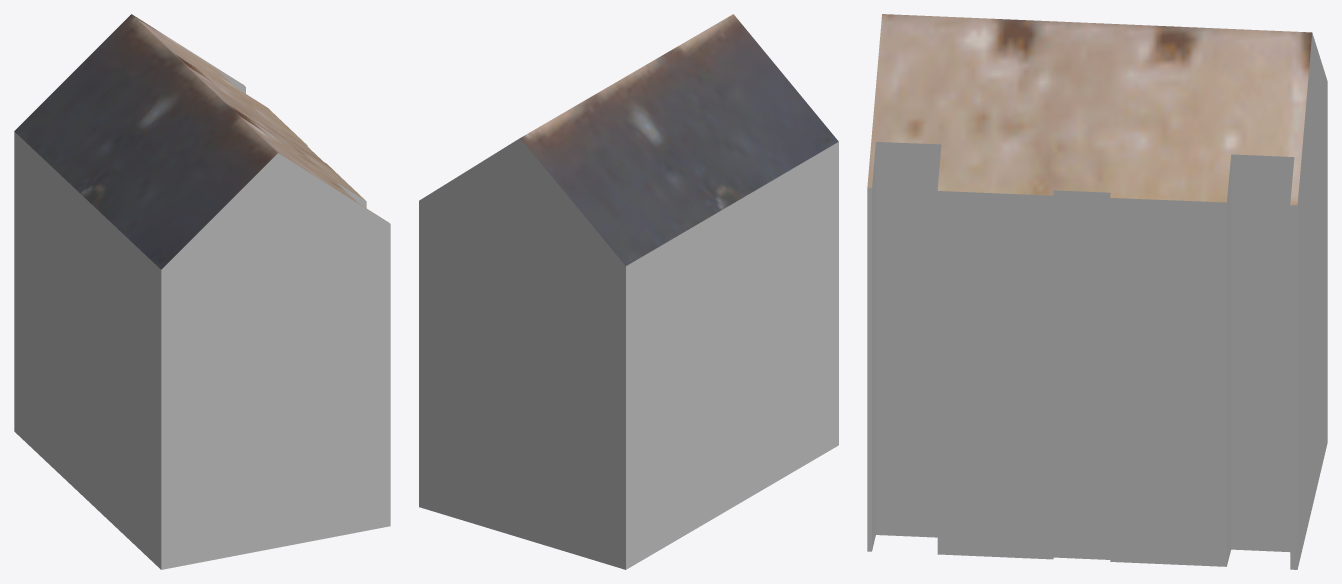
File: DEBW_0010007Txh4.gltf
3 renders of one model, left to right at view 1: azimuth 30°, elevation 25°; view 2: azimuth 150°, elevation 25°; view 3: azimuth 270°, elevation 25°, orthographic. The views are drawn at different scales.
Visible parts, largest first — view 1: Z_UP; view 2: Z_UP; view 3: Z_UP.
Part boxes in pixels (x1,y1,x2,y2): Z_UP: (14,14,390,569); Z_UP: (419,14,838,569); Z_UP: (867,14,1327,569).
Bounding box in the file's own units: 13.18 × 20.02 × 17.57.
2 materials, 1 textured.
